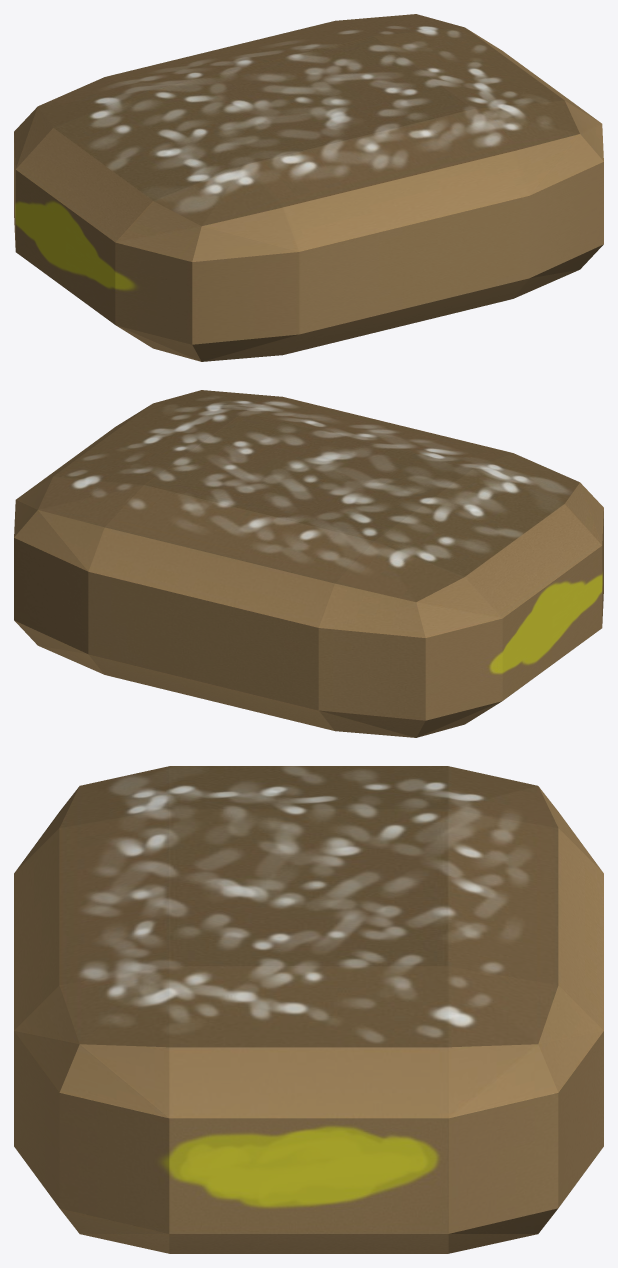
Rendered from lemonjellydonut3.dae.
The picture shows the model from 3 angles, top to bottom: view 1: azimuth 30°, elevation 25°; view 2: azimuth 150°, elevation 25°; view 3: azimuth 270°, elevation 25°; orthographic projection. The views are drawn at different scales.
Parts seen in each view (by area): view 1: Cube; view 2: Cube; view 3: Cube.
Boxes of the visible parts, x1,y1,x2,y2 form: Cube: [14, 14, 603, 361]; Cube: [14, 390, 603, 737]; Cube: [14, 766, 603, 1253].
Size of the model in its own units: 1.6 by 1.2 by 0.5482.
Materials: 1 (1 with a texture image).
